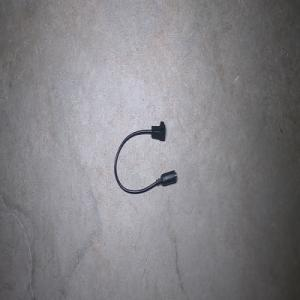Wire: (114, 121, 177, 194)
